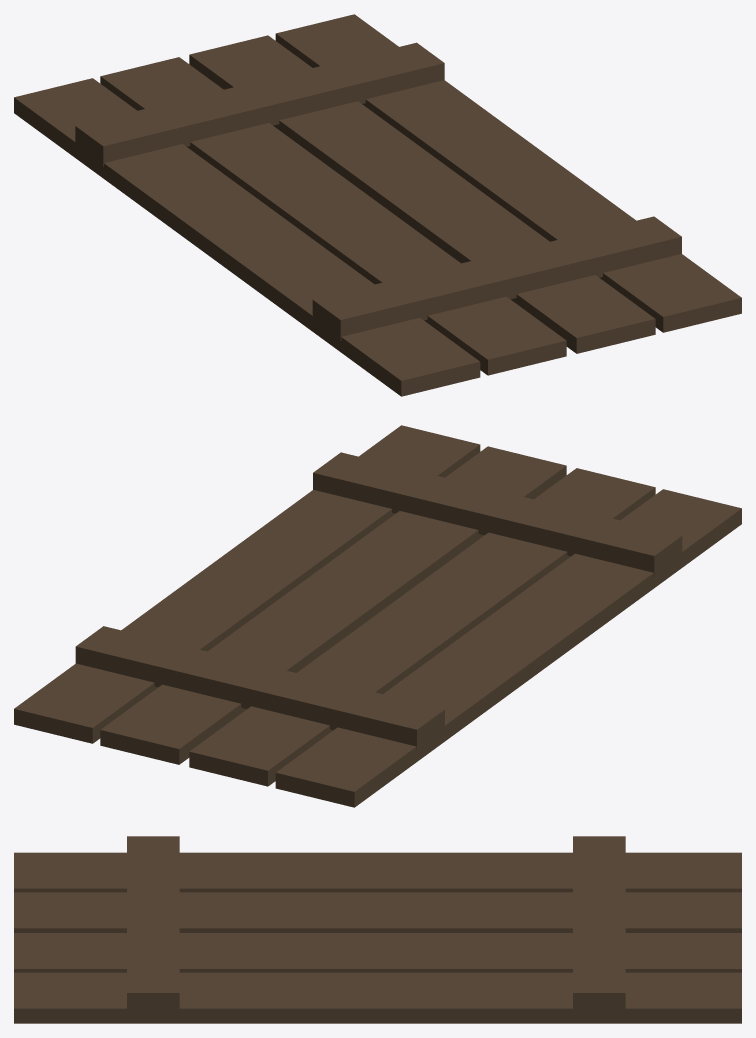
Rendered from raft.FBX.
3 views of the same model, one above another, from view 1: azimuth 30°, elevation 25°; view 2: azimuth 150°, elevation 25°; view 3: azimuth 270°, elevation 25° (orthographic). The views are drawn at different scales.
Visible parts, largest first — view 1: Cube.003; view 2: Cube.003; view 3: Cube.003.
Part boxes in pixels (x1,y1,x2,y2): Cube.003: [14, 14, 741, 396]; Cube.003: [14, 425, 741, 807]; Cube.003: [14, 836, 741, 1023].
Size of the model in its own units: 524 by 47.96 by 1030.
